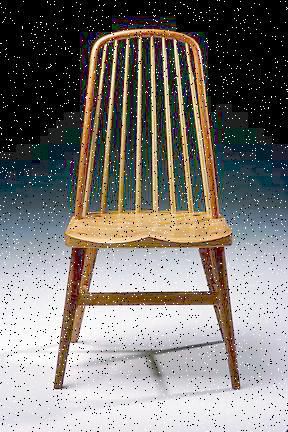Silla: (53, 36, 243, 388)
